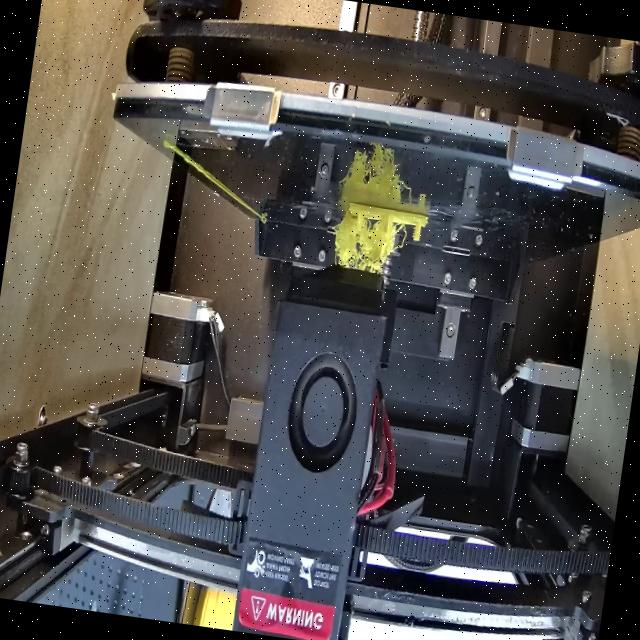spaghetti: (328, 212, 407, 282)
